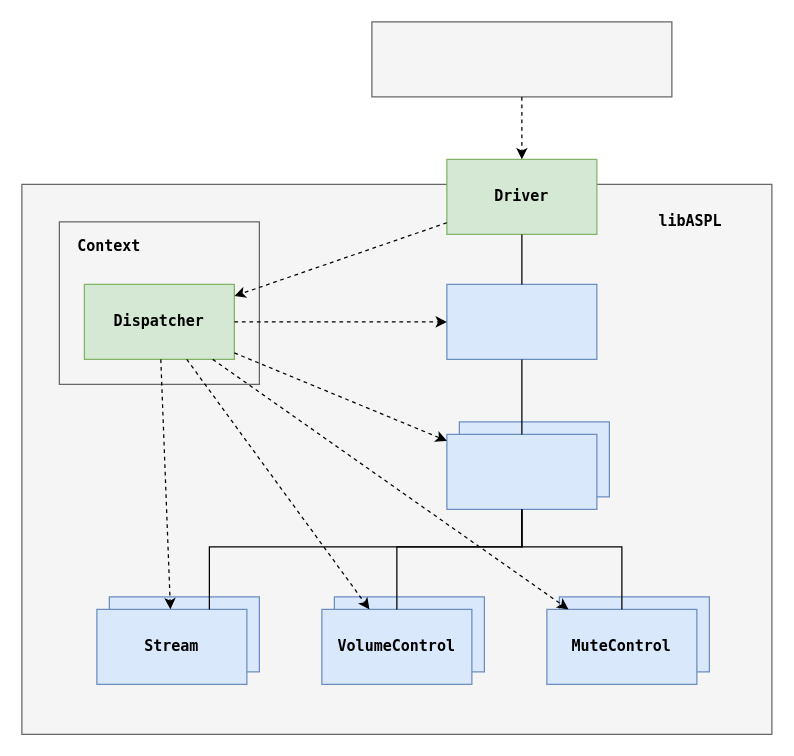
Image size: 794x756. Some labels were removed from this diagram. The box of each missing label's shape, as (x1, y1, x2, y2) in pixels:
Audio Server: (371, 21, 672, 97)
Device: (446, 433, 597, 509)
Plugin: (446, 283, 597, 359)
